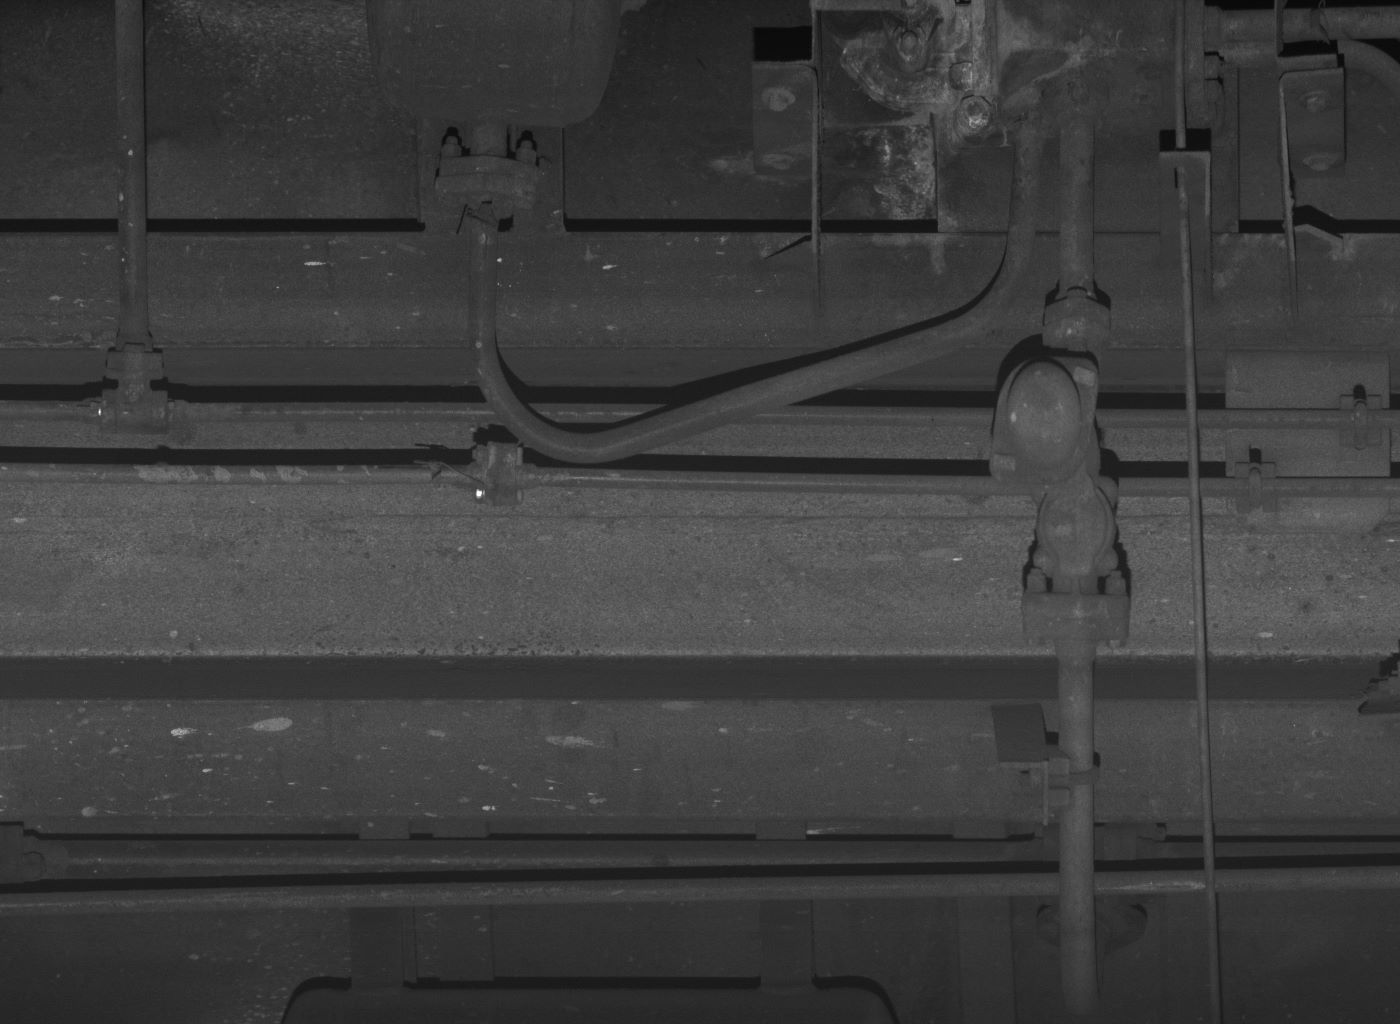normal: (1034, 476, 1122, 576)
